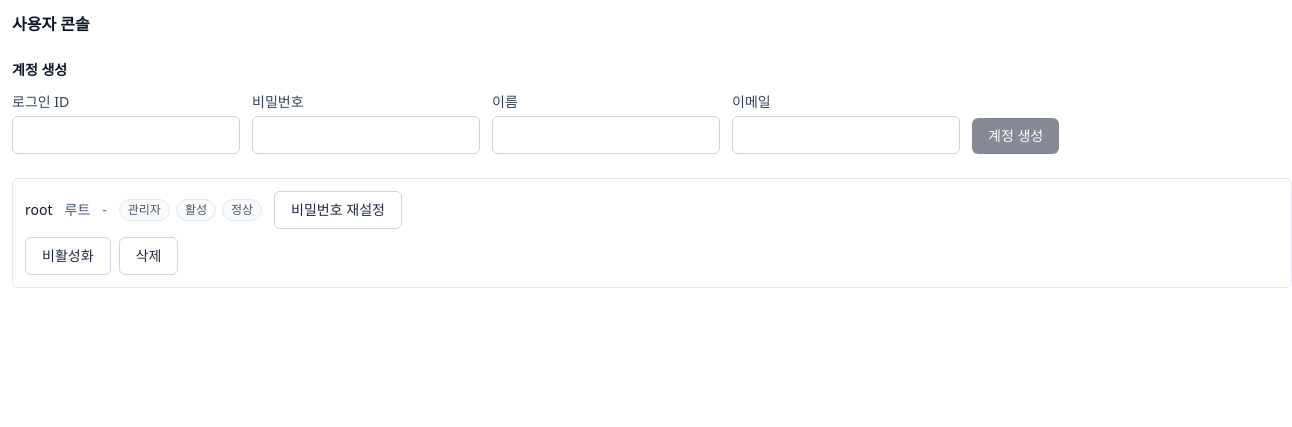
Scenario: AdminUserPanel — 계정 생성 결선(Req 5.2) › 생성 성공 시 새 계정이 목록에 반영된다 (201 → 반영)
The image size is (1292, 427).
expect the text "root" is shown: met, box [25, 200, 52, 220]
Type "carol" into the field labelled "로그인 ID" at {"x": 126, "y": 135}, box [12, 116, 240, 154]
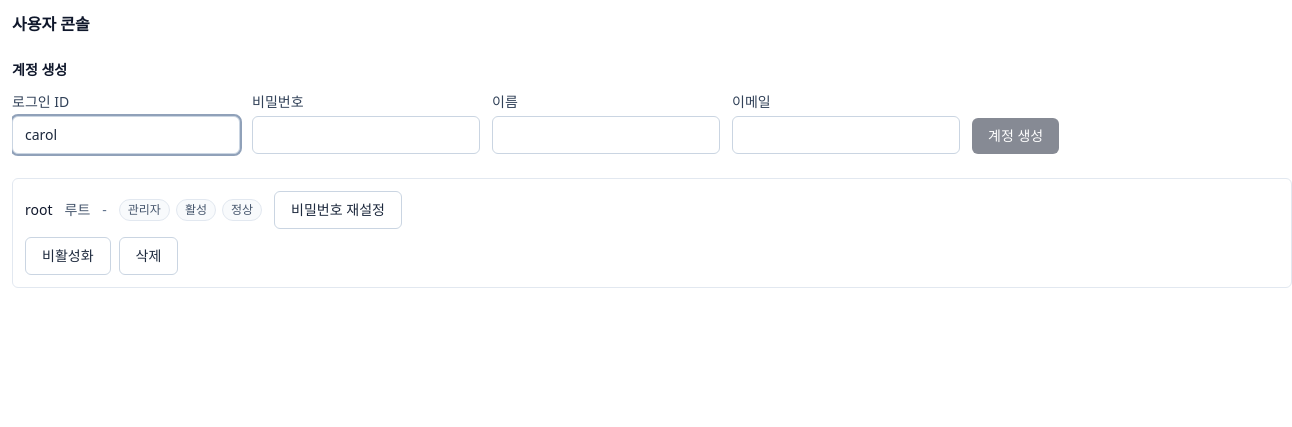
Type "pw12345678" into the password field labelled "비밀번호" at {"x": 366, "y": 135}, box [252, 116, 480, 154]
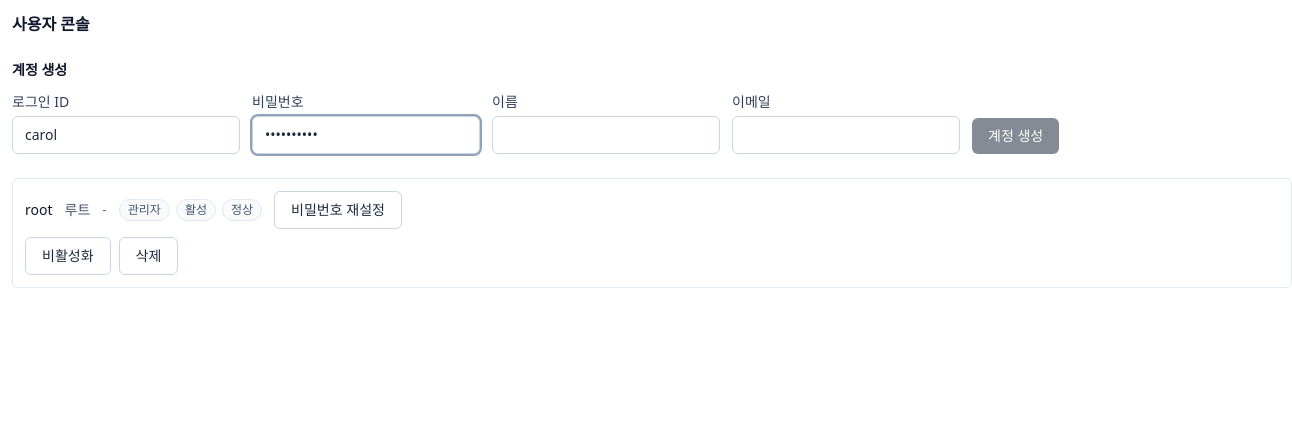
Type "캐롤" into the field labelled "이름" at {"x": 606, "y": 135}, box [492, 116, 720, 154]
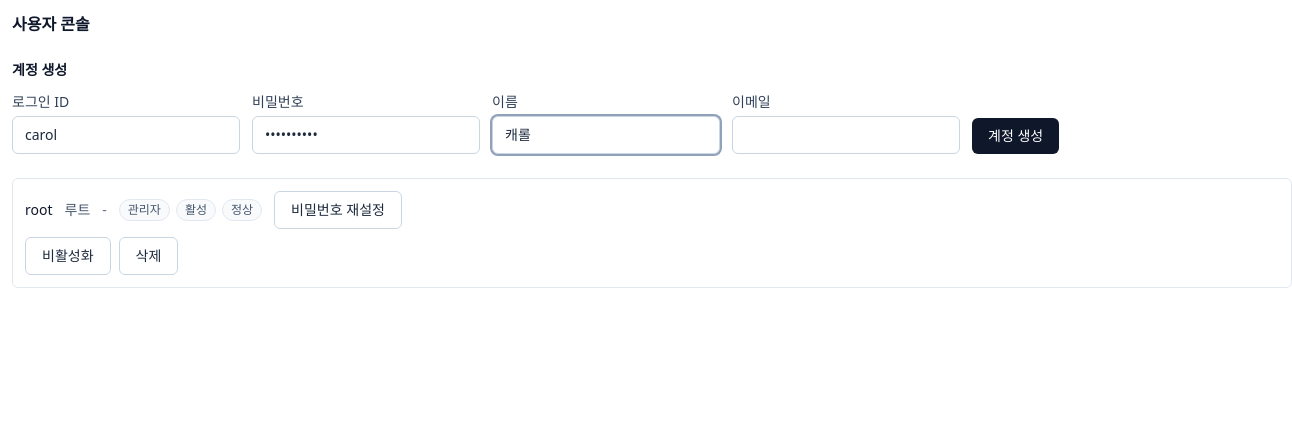
Click the button "계정 생성" at {"x": 1016, "y": 136}, box [972, 118, 1059, 154]
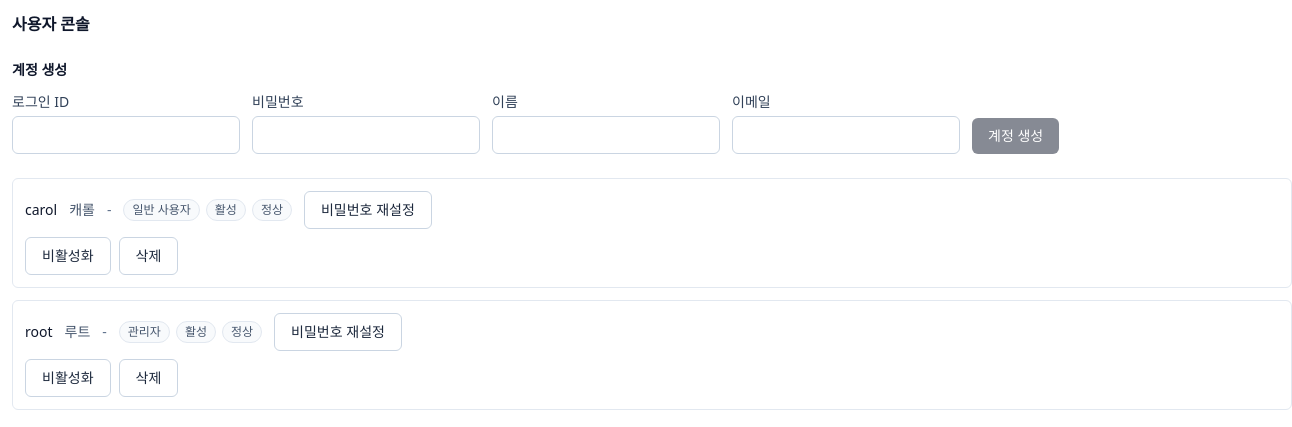
expect the text "carol" is shown: met, box [25, 200, 57, 220]
